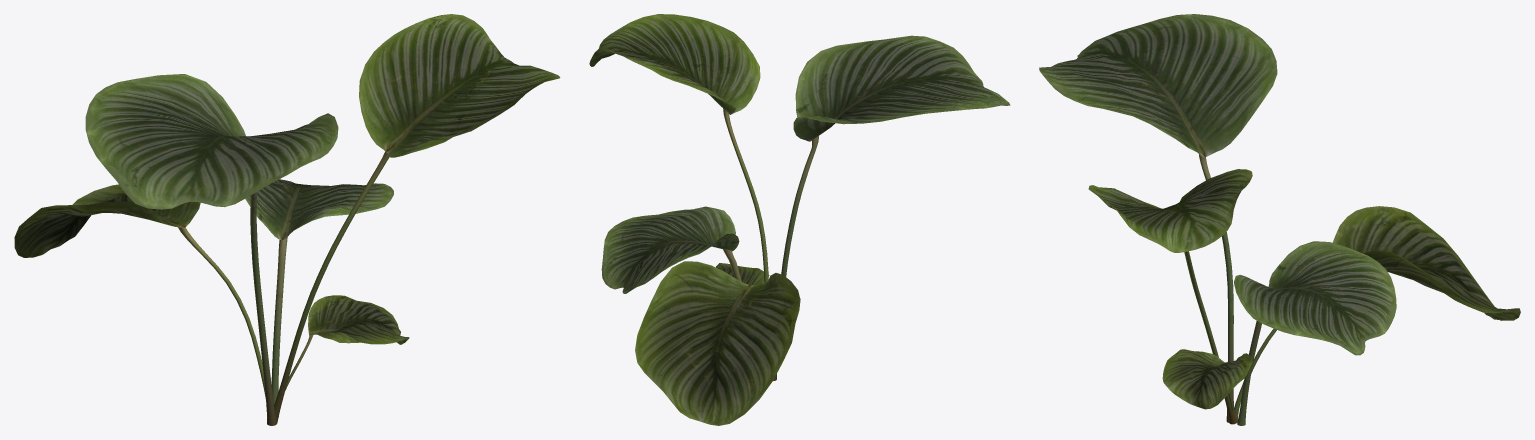
Rendered from calathea_orbifolia_01_e.gltf.
The picture shows the model from 3 angles, left to right: view 1: azimuth 30°, elevation 25°; view 2: azimuth 150°, elevation 25°; view 3: azimuth 270°, elevation 25°; orthographic projection. The views are drawn at different scales.
Visible parts, largest first — view 1: calathea_orbifolia_01_c; view 2: calathea_orbifolia_01_c; view 3: calathea_orbifolia_01_c.
Part boxes in pixels (x1=…): calathea_orbifolia_01_c: x1=14, y1=14, x2=560, y2=425; calathea_orbifolia_01_c: x1=589, y1=14, x2=1010, y2=425; calathea_orbifolia_01_c: x1=1039, y1=14, x2=1520, y2=425.
Bounding box in the file's own units: 0.3752 × 0.284 × 0.3838.
Materials: 1 (1 with a texture image).
